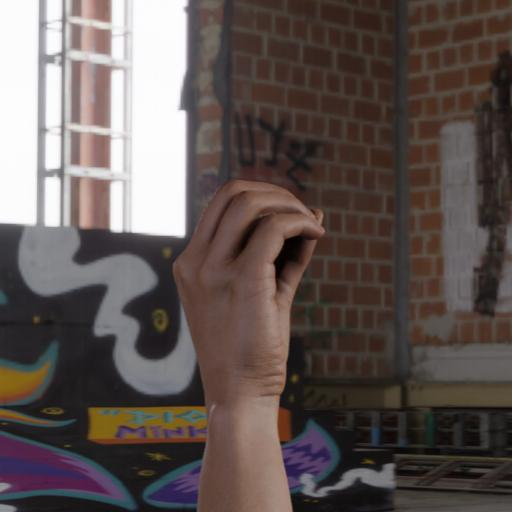O: (150, 170, 334, 512)
